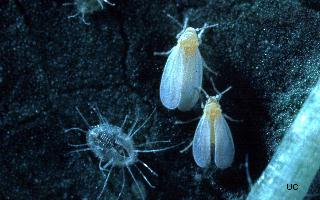whitefly: (154, 6, 222, 106), (180, 86, 236, 172)
